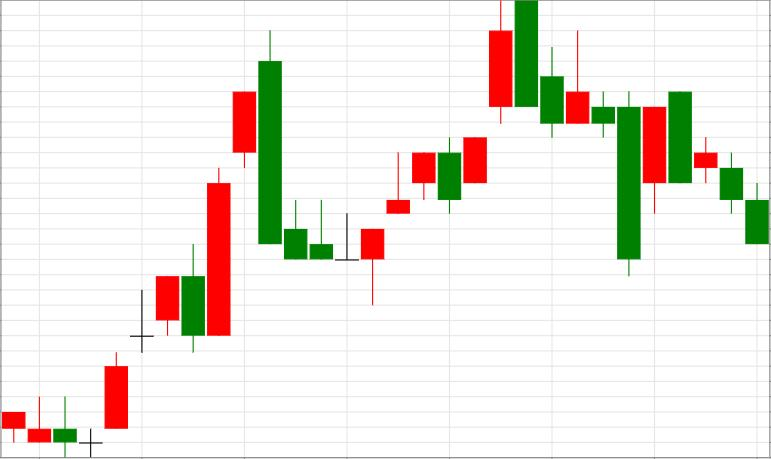bearish_engulfing_fall: (104, 30, 281, 429)
